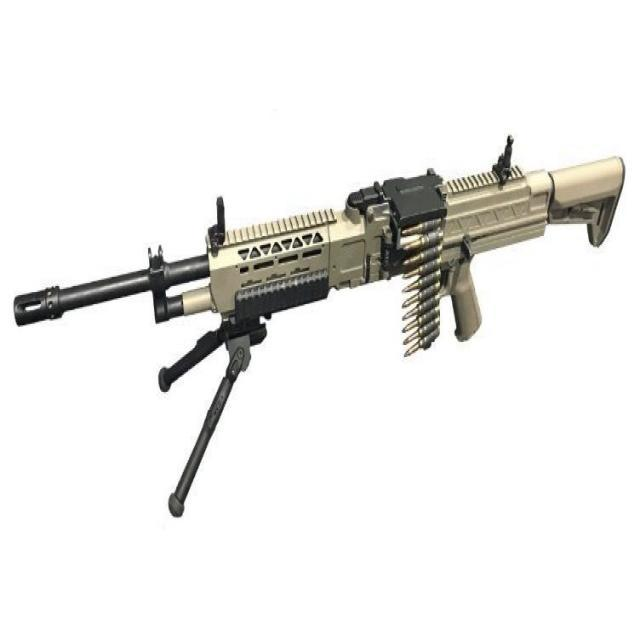weapon: (14, 133, 626, 518)
